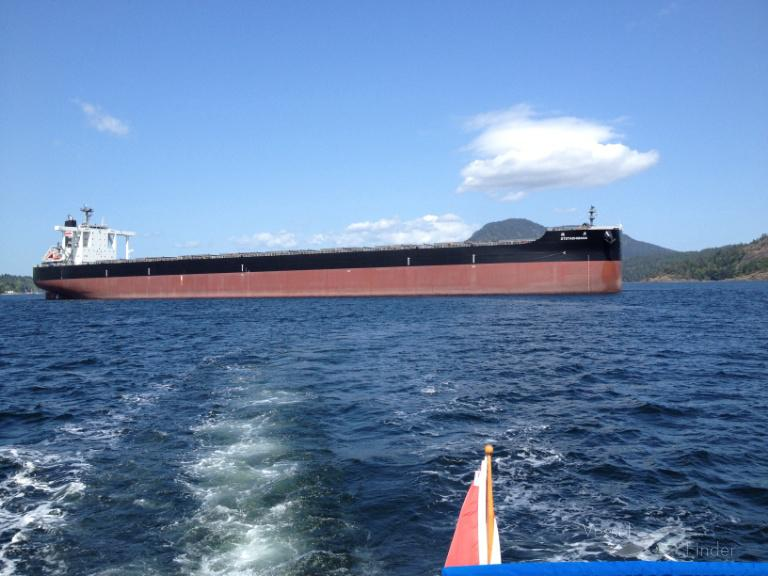OCR: (559, 233, 590, 245)
